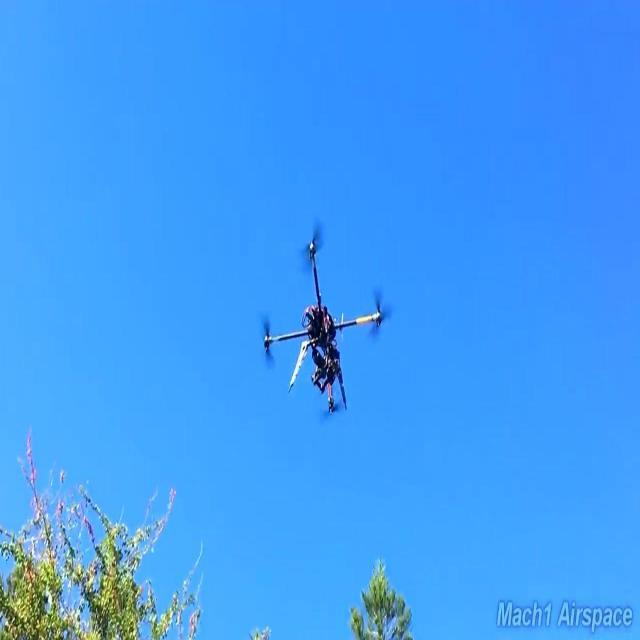UAV: (262, 223, 392, 419)
